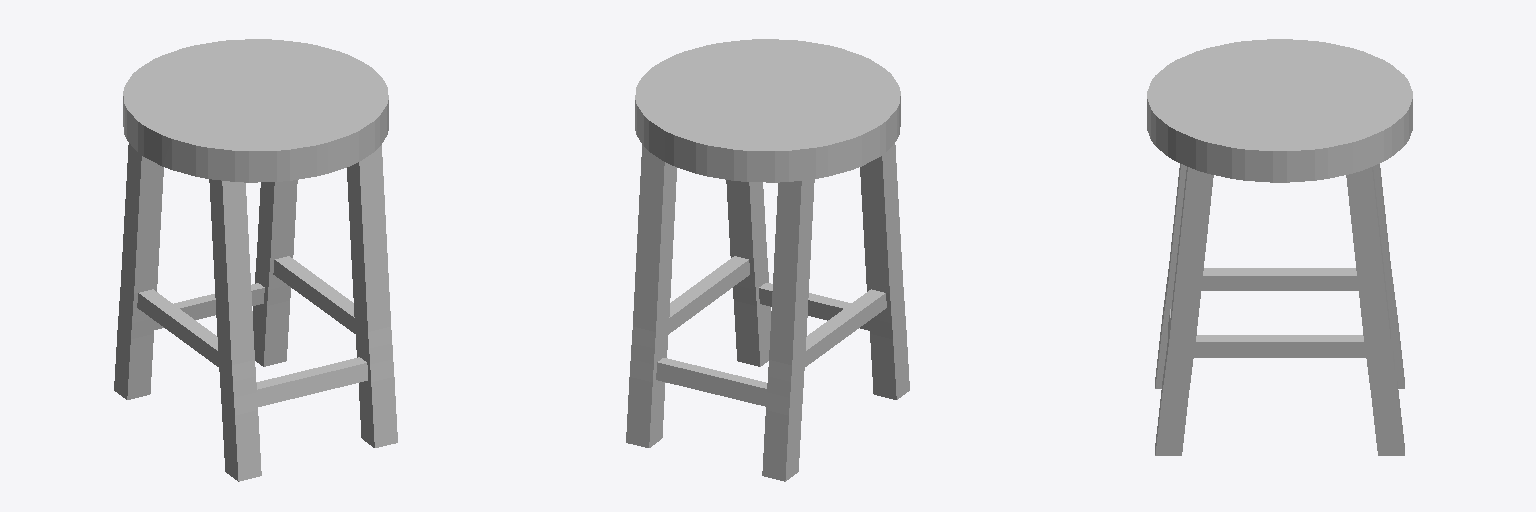
The model's file is Banco5x1.obj.
3 views of the same model, side by side, from view 1: azimuth 30°, elevation 25°; view 2: azimuth 150°, elevation 25°; view 3: azimuth 270°, elevation 25° (orthographic).
Visible parts, largest first — view 1: Banco5x2 Banco5x1:BancoPatas5x1Banco5x1, Banco5x1:Banco5x1BancoBase5x1 Banco5x2; view 2: Banco5x2 Banco5x1:BancoPatas5x1Banco5x1, Banco5x1:Banco5x1BancoBase5x1 Banco5x2; view 3: Banco5x1:Banco5x1BancoBase5x1 Banco5x2, Banco5x2 Banco5x1:BancoPatas5x1Banco5x1.
Part boxes in pixels (x1,y1,x2,y2): Banco5x2 Banco5x1:BancoPatas5x1Banco5x1: (114,143,397,481); Banco5x1:Banco5x1BancoBase5x1 Banco5x2: (123,39,388,182); Banco5x2 Banco5x1:BancoPatas5x1Banco5x1: (626,143,909,481); Banco5x1:Banco5x1BancoBase5x1 Banco5x2: (635,39,900,182); Banco5x1:Banco5x1BancoBase5x1 Banco5x2: (1147,39,1412,182); Banco5x2 Banco5x1:BancoPatas5x1Banco5x1: (1155,164,1404,455).
Size of the model in its own units: 4.96 by 6.62 by 4.96.